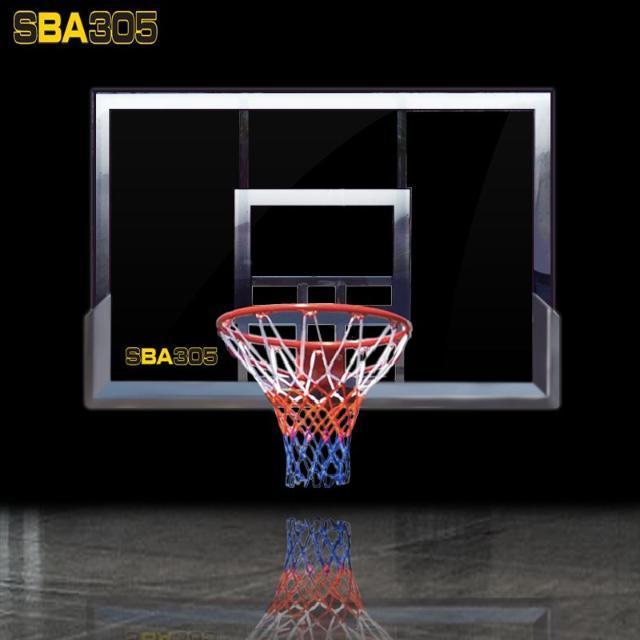rim: (218, 304, 410, 488)
